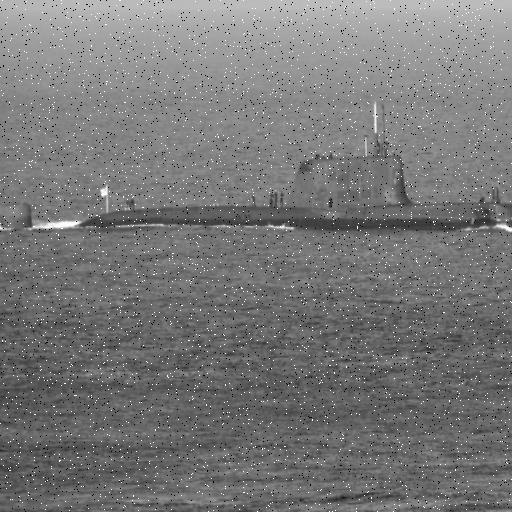submarine: (1, 100, 512, 225)
